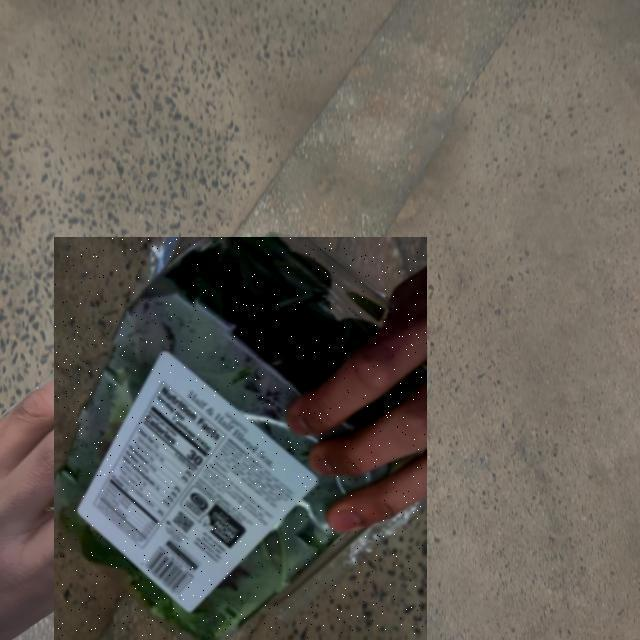Lettuce: (54, 237, 427, 640)
